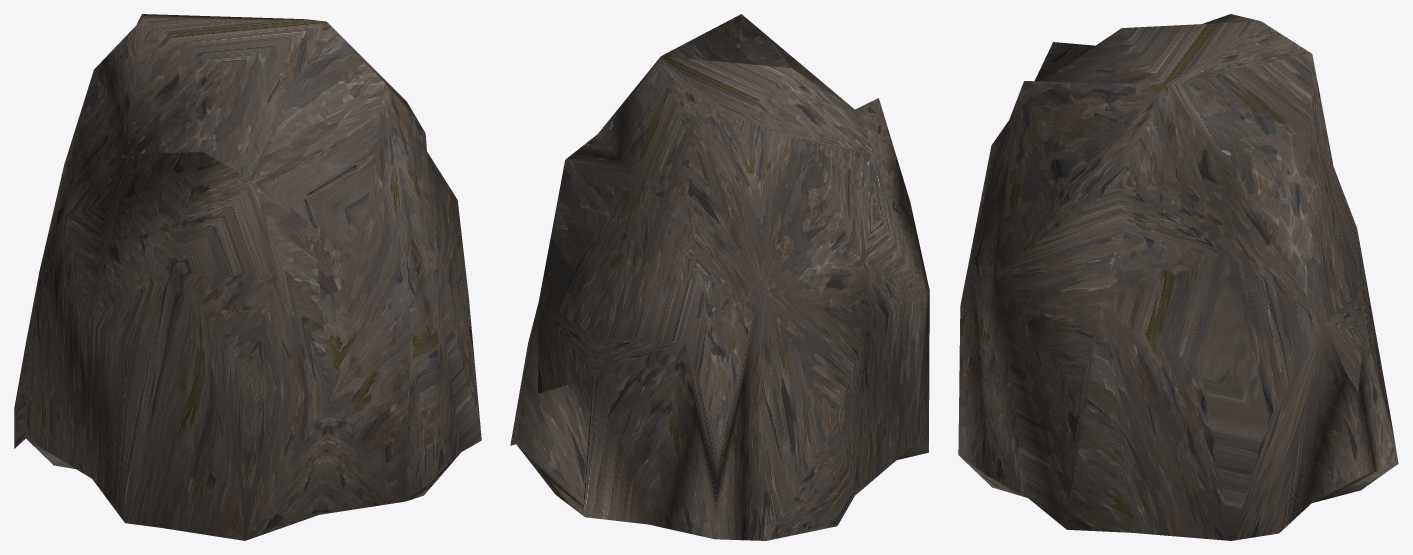
The model's file is rock.glb.
3 renders of one model, left to right at view 1: azimuth 30°, elevation 25°; view 2: azimuth 150°, elevation 25°; view 3: azimuth 270°, elevation 25°, orthographic. The views are drawn at different scales.
Visible parts, largest first — view 1: rock; view 2: rock; view 3: rock.
Part boxes in pixels (x1=…): rock: x1=14, y1=14, x2=481, y2=540; rock: x1=510, y1=14, x2=929, y2=540; rock: x1=958, y1=14, x2=1398, y2=540.
Bounding box in the file's own units: 1 × 1 × 1.
Materials: 1 (1 with a texture image).
